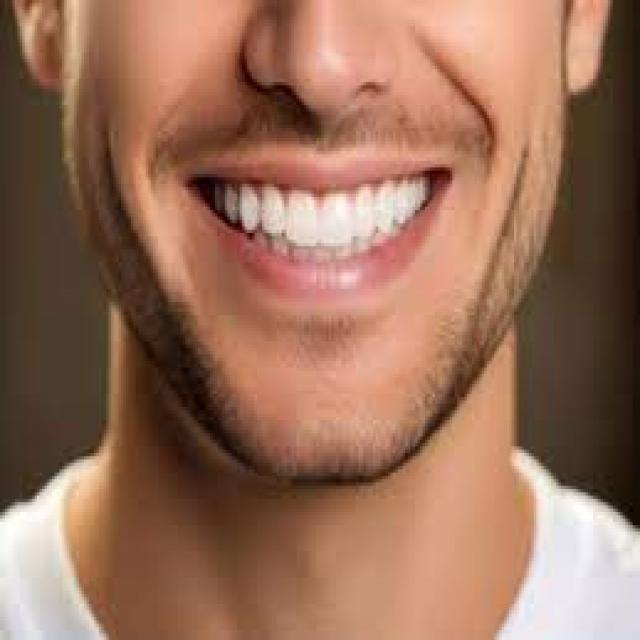tooth: (319, 193, 353, 250), (260, 177, 289, 230), (292, 190, 318, 243), (354, 184, 376, 236), (237, 184, 257, 230), (375, 178, 393, 226), (222, 180, 242, 220), (393, 180, 408, 217), (408, 184, 420, 210)
